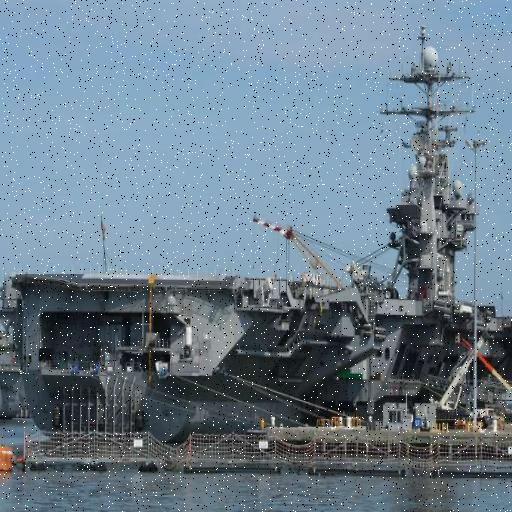Portanaves: (11, 24, 512, 444)
